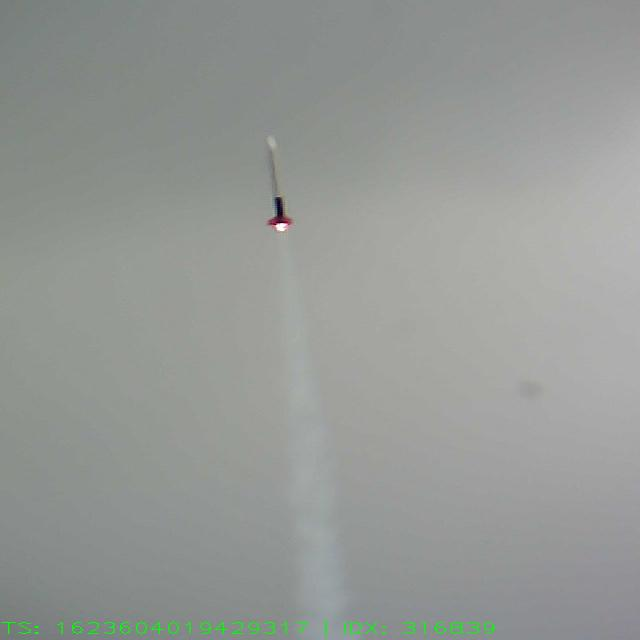Rocket: (264, 134, 295, 226)
